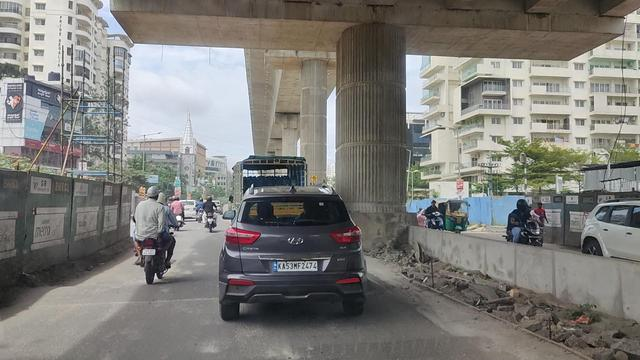LMV: (221, 188, 366, 317), (138, 183, 172, 282)
SpeedBump: (30, 281, 218, 302)
